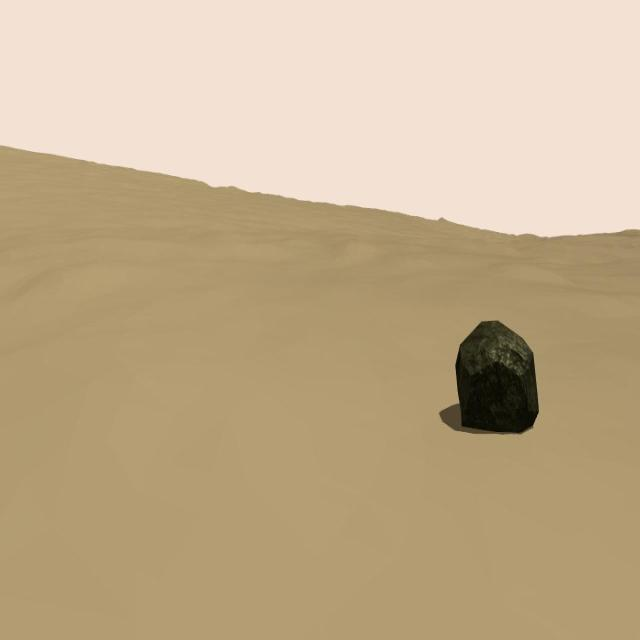rock: (454, 320, 540, 432)
